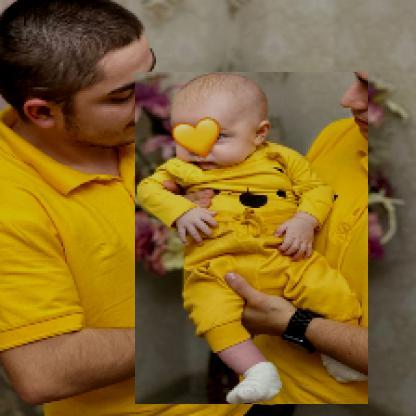child: (137, 73, 371, 406)
